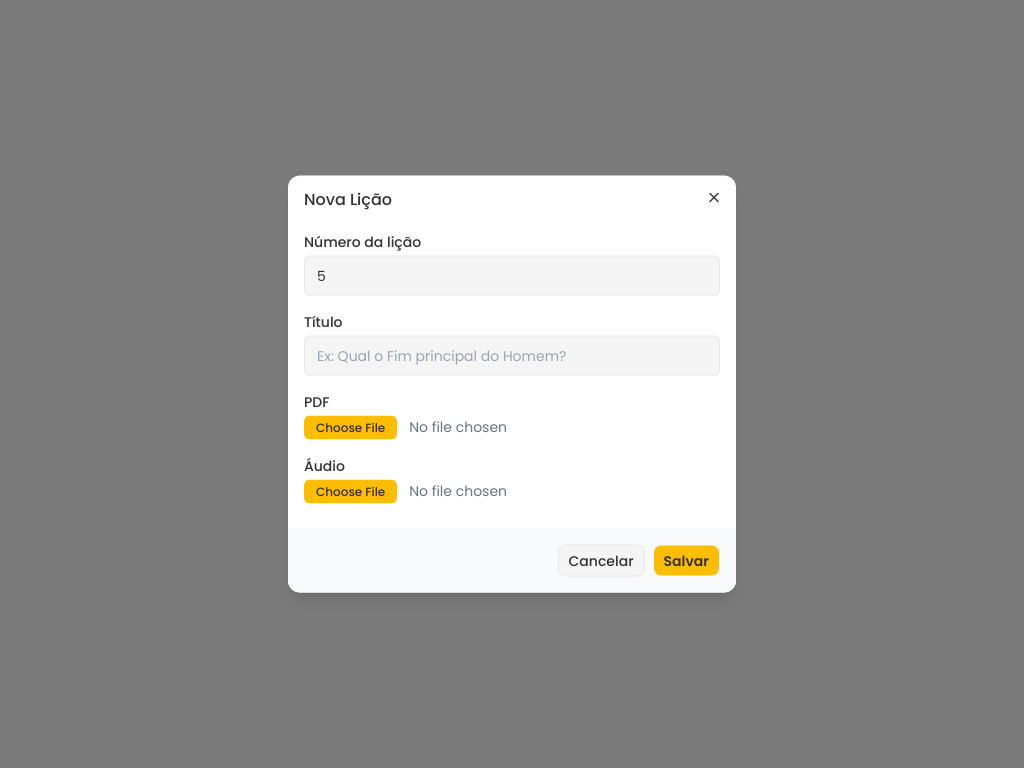
Scenario: CreateLessonDialog › shows error when trying to save without a title
Click the button "Salvar": (686, 560) x1=652 y1=544 x2=720 y2=576
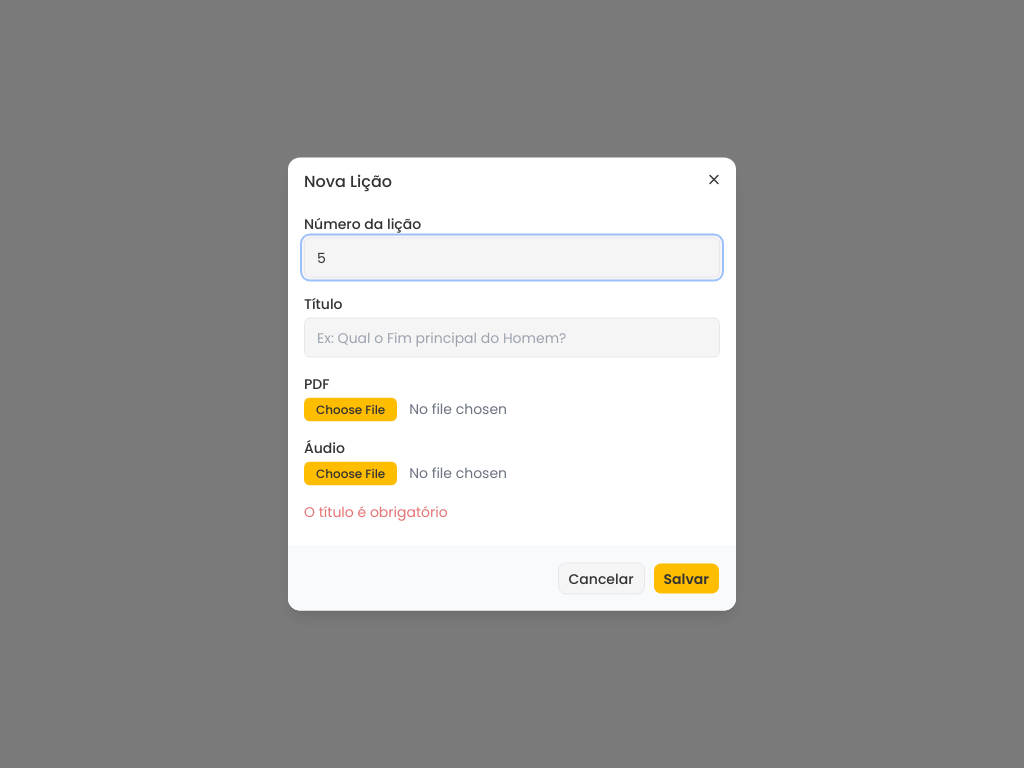
Check: the text "O título é obrigatório" is shown, box x1=304 y1=502 x2=448 y2=522
